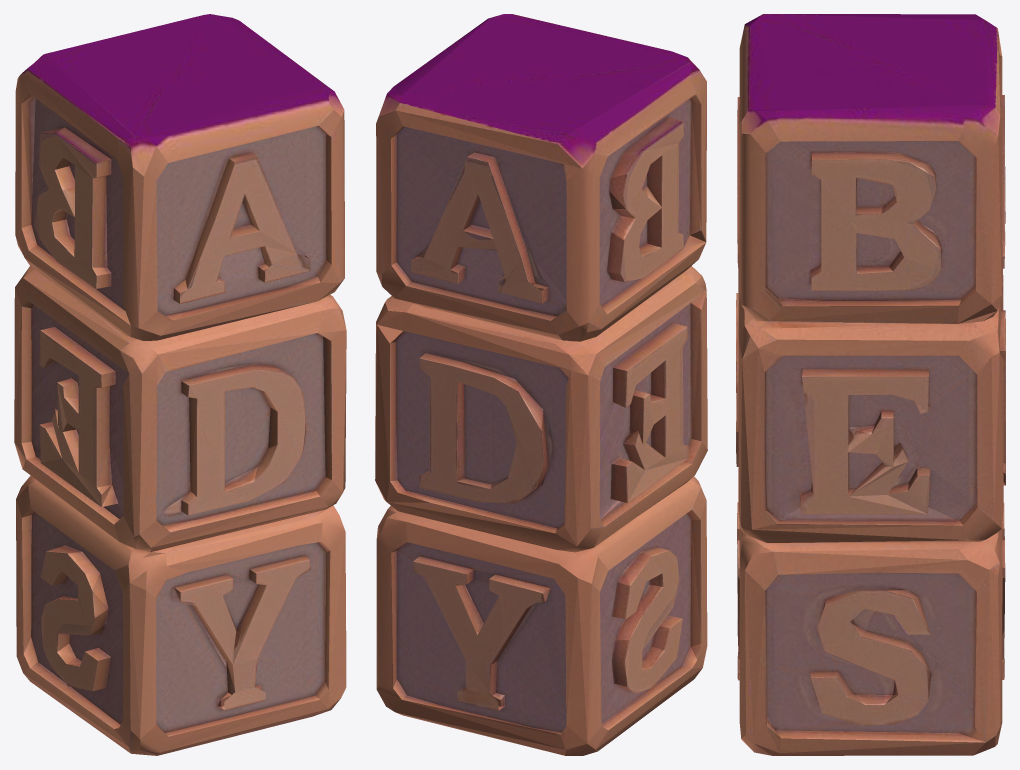
File: blocos_brinquedo.glb
The picture shows the model from 3 angles, left to right: view 1: azimuth 30°, elevation 25°; view 2: azimuth 150°, elevation 25°; view 3: azimuth 270°, elevation 25°; orthographic projection. The views are drawn at different scales.
Bounding box in the file's own units: 0.722 × 1.9 × 0.717.
1 material, 1 textured.
